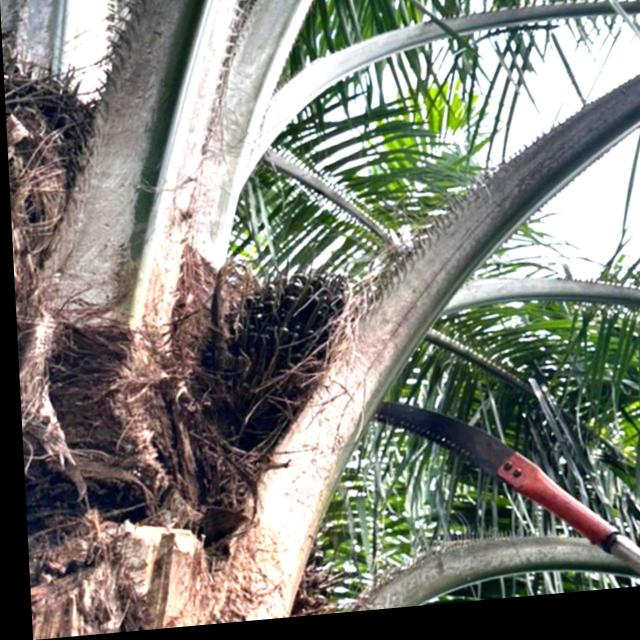unripe: (180, 250, 368, 466)
